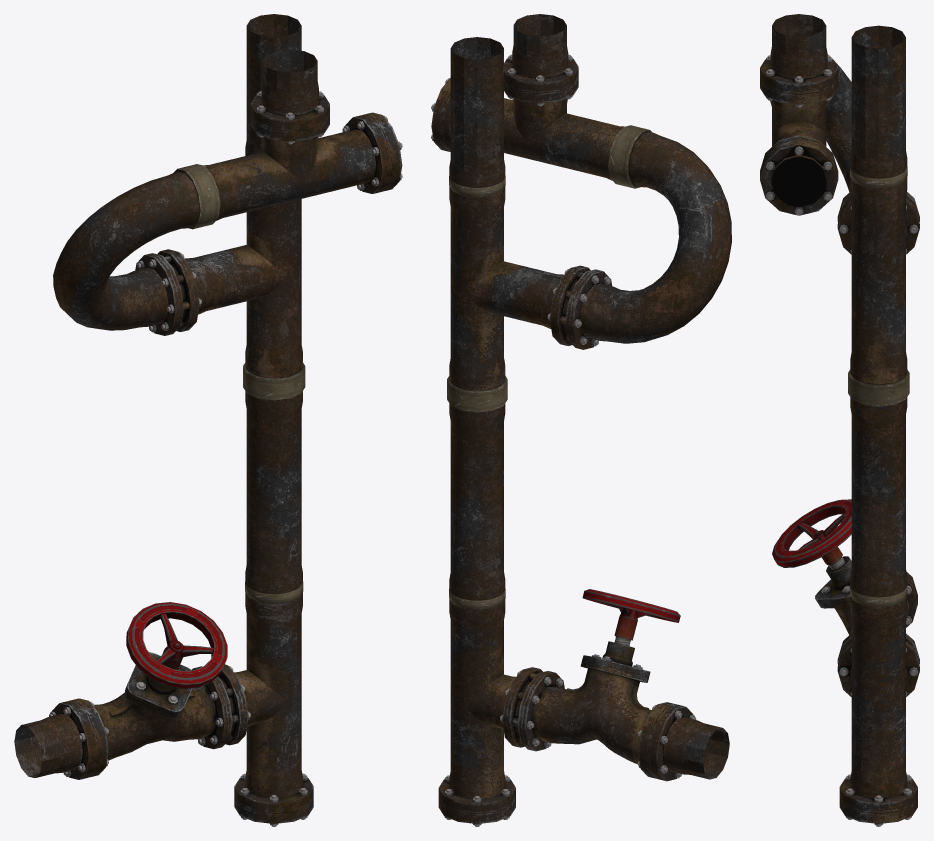
Rendered from Tubes_Shower_set.fbx.
3 renders of one model, left to right at view 1: azimuth 30°, elevation 25°; view 2: azimuth 150°, elevation 25°; view 3: azimuth 270°, elevation 25°, orthographic. The views are drawn at different scales.
Parts seen in each view (by area): view 1: BigTube_03_low001, BigTube_04_low001, BigTube_02_low001, BigTube_01_low001, BigTube_02_low002, BigTube_07_low001, Detail_04_low001, BigTube_01_low006, BigTube_01_low005, BigTube_01_low003, Connector_02_low003, Connector_02_low002 (+6 smaller); view 2: BigTube_03_low001, BigTube_04_low001, BigTube_02_low001, BigTube_01_low001, BigTube_07_low001, BigTube_01_low003, BigTube_02_low002, BigTube_01_low006, BigTube_01_low005, Connector_02_low003, Connector_02_low002, Connector_03_low002 (+8 smaller); view 3: BigTube_04_low001, BigTube_02_low001, BigTube_01_low001, BigTube_01_low003, BigTube_02_low002, Detail_04_low001, BigTube_01_low005, Connector_03_low005, Connector_03_low004, Connector_03_low001, BigTube_03_low001, BigTube_07_low001 (+6 smaller).
Boxes of the visible parts, x1=… form: BigTube_03_low001: x1=53, y1=171, x2=199, y2=330; BigTube_04_low001: x1=185, y1=199, x2=302, y2=378; BigTube_02_low001: x1=234, y1=592, x2=302, y2=797; BigTube_01_low001: x1=245, y1=391, x2=302, y2=593; BigTube_02_low002: x1=203, y1=129, x2=376, y2=220; BigTube_07_low001: x1=94, y1=652, x2=216, y2=760; Detail_04_low001: x1=126, y1=602, x2=227, y2=689; BigTube_01_low006: x1=14, y1=714, x2=82, y2=777; BigTube_01_low005: x1=261, y1=49, x2=318, y2=115; BigTube_01_low003: x1=245, y1=14, x2=301, y2=155; Connector_02_low003: x1=135, y1=249, x2=201, y2=335; Connector_02_low002: x1=192, y1=664, x2=250, y2=749; BigTube_03_low001: x1=580, y1=132, x2=731, y2=343; BigTube_04_low001: x1=449, y1=186, x2=564, y2=390; BigTube_02_low001: x1=449, y1=599, x2=516, y2=798; BigTube_01_low001: x1=449, y1=403, x2=505, y2=600; BigTube_07_low001: x1=531, y1=641, x2=651, y2=763; BigTube_01_low003: x1=449, y1=37, x2=505, y2=187; BigTube_02_low002: x1=504, y1=98, x2=624, y2=180; BigTube_01_low006: x1=663, y1=717, x2=729, y2=779; BigTube_01_low005: x1=512, y1=14, x2=568, y2=77; Connector_02_low003: x1=547, y1=265, x2=612, y2=349; Connector_02_low002: x1=500, y1=667, x2=564, y2=751; Connector_03_low002: x1=637, y1=702, x2=696, y2=781; BigTube_04_low001: x1=850, y1=177, x2=907, y2=384; BigTube_02_low001: x1=850, y1=595, x2=907, y2=798; BigTube_01_low001: x1=850, y1=397, x2=907, y2=597; BigTube_01_low003: x1=850, y1=25, x2=907, y2=178; BigTube_02_low002: x1=770, y1=100, x2=827, y2=207; Detail_04_low001: x1=772, y1=499, x2=851, y2=569; BigTube_01_low005: x1=770, y1=14, x2=827, y2=78; Connector_03_low005: x1=760, y1=135, x2=838, y2=215; Connector_03_low004: x1=760, y1=55, x2=838, y2=107; Connector_03_low001: x1=839, y1=774, x2=917, y2=826; BigTube_03_low001: x1=826, y1=54, x2=851, y2=192; BigTube_07_low001: x1=815, y1=556, x2=908, y2=634.
Bounding box in the file's own units: 195 × 460 × 86.
